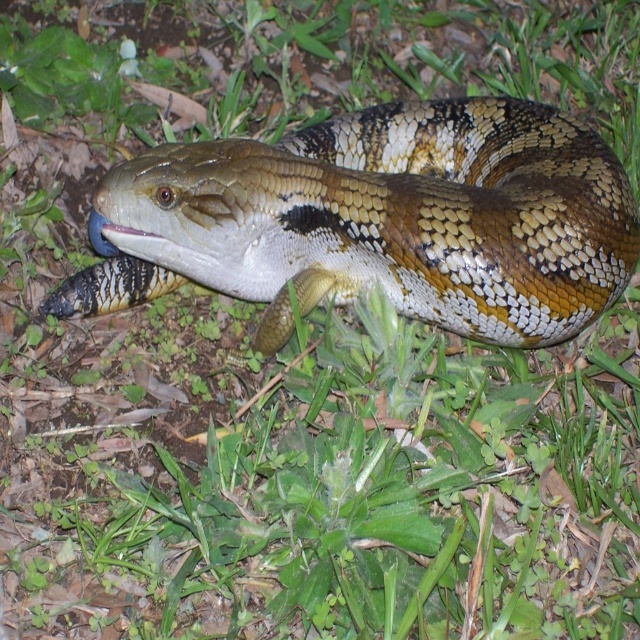Snake: (38, 93, 640, 367)
